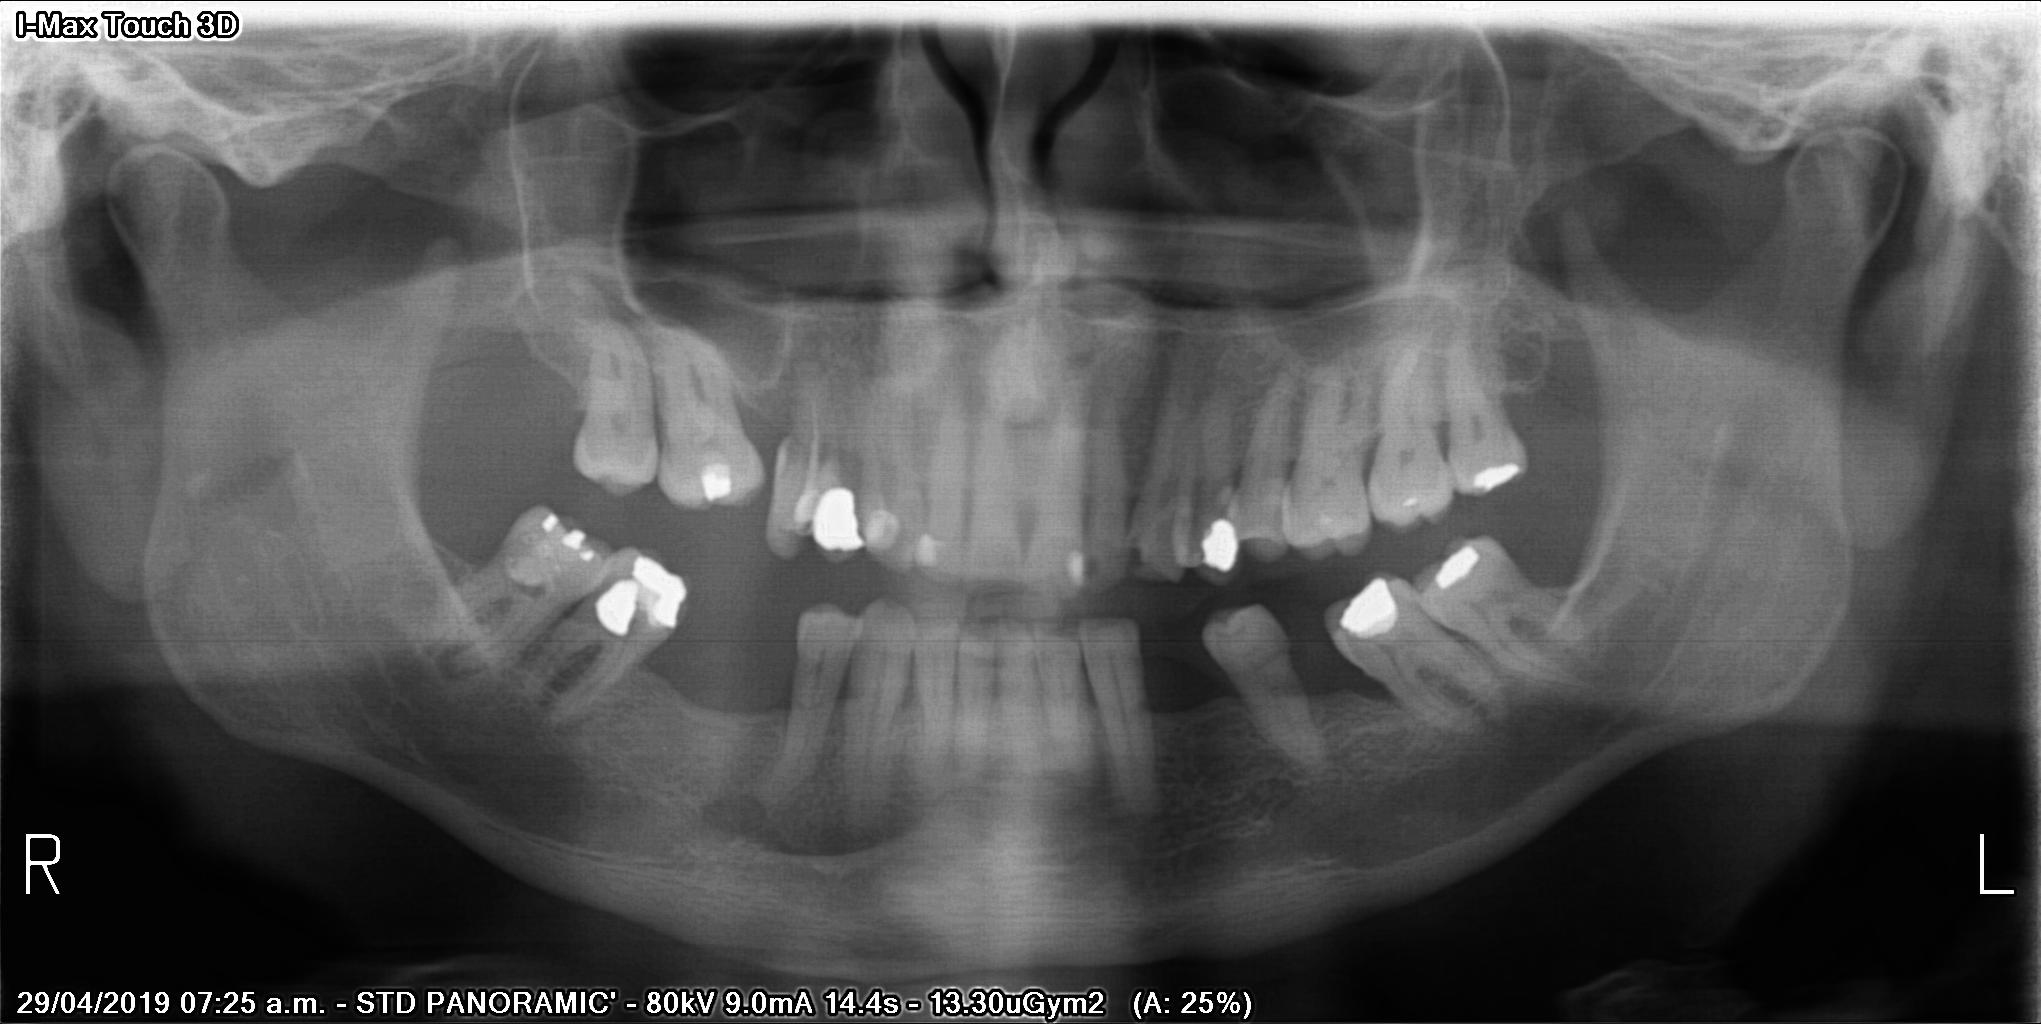Çürük: (598, 543, 718, 636), (803, 481, 871, 562), (1336, 579, 1409, 637), (1421, 545, 1499, 594), (1461, 455, 1529, 498), (1197, 516, 1244, 568), (693, 457, 734, 507), (548, 525, 589, 549), (538, 505, 562, 539), (569, 546, 606, 567), (915, 536, 936, 569), (1067, 552, 1085, 586)
Çürük Bölgesi: (571, 577, 615, 627), (622, 602, 662, 643), (1080, 545, 1103, 580)
